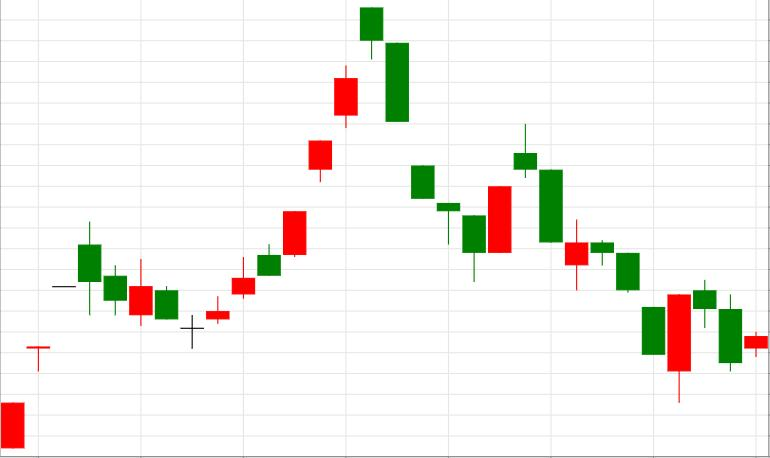bullish_engulfing_rise: (514, 125, 690, 403)
three_black_crows_fall: (206, 7, 434, 325)
